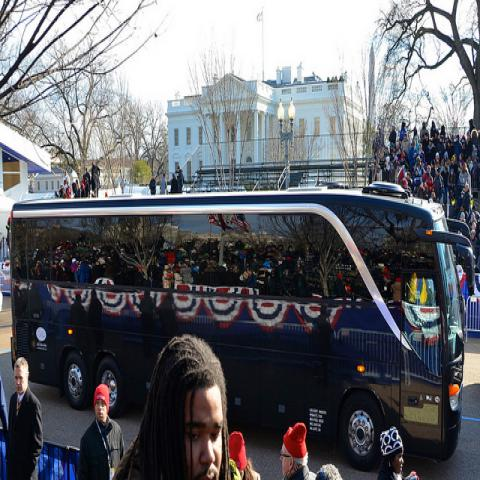bus: (7, 182, 474, 470)
